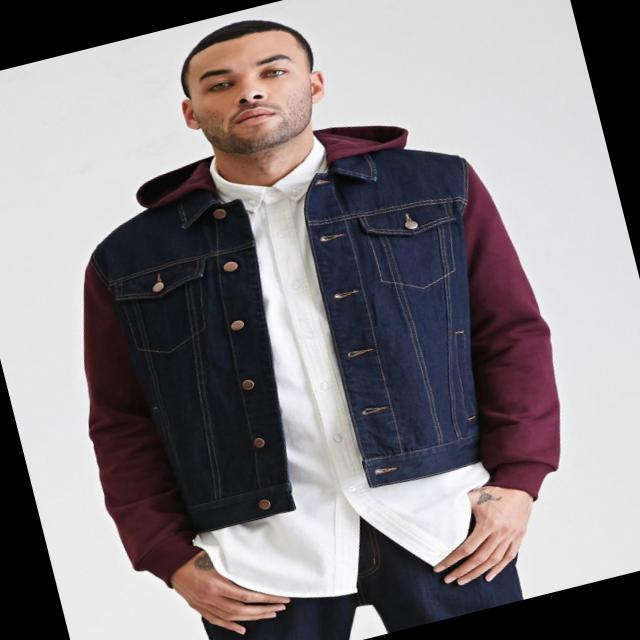Jacket: (31, 100, 588, 600)
